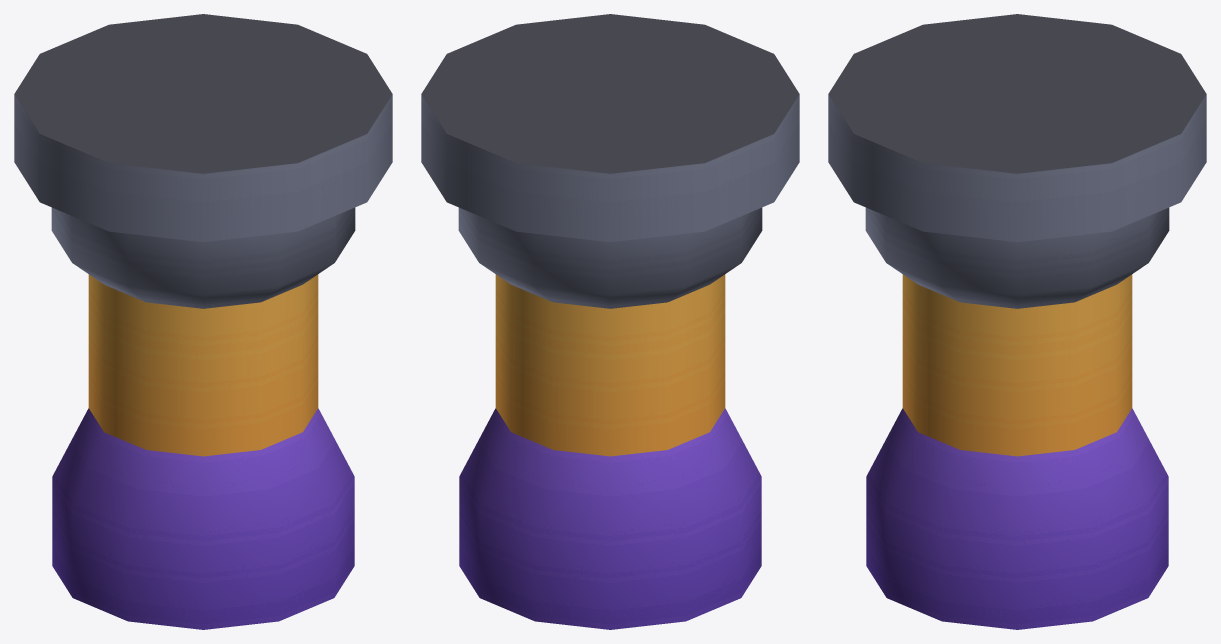
File: column.glb
3 renders of one model, left to right at view 1: azimuth 30°, elevation 25°; view 2: azimuth 150°, elevation 25°; view 3: azimuth 270°, elevation 25°, orthographic.
Parts seen in each view (by area): view 1: column; view 2: column; view 3: column.
Boxes of the visible parts, x1=… form: column: x1=14, y1=14, x2=392, y2=629; column: x1=421, y1=14, x2=799, y2=629; column: x1=828, y1=14, x2=1206, y2=629.
Bounding box in the file's own units: 0.7258 × 1 × 0.7258.
Materials: 1 (1 with a texture image).
